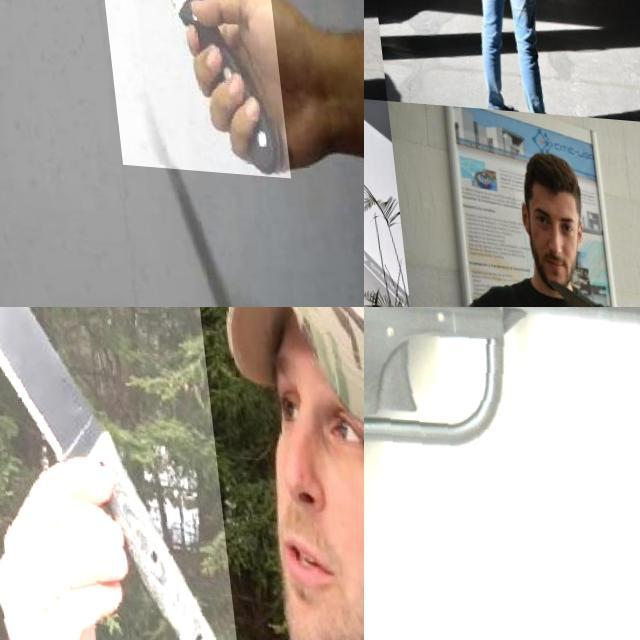-: (0, 307, 230, 640), (83, 0, 280, 175), (533, 267, 602, 307), (512, 293, 560, 307), (364, 0, 379, 33), (470, 0, 490, 23), (364, 277, 379, 294)
gun-knife-thesis - v11 Yolov5 augmented: (364, 307, 640, 640)
